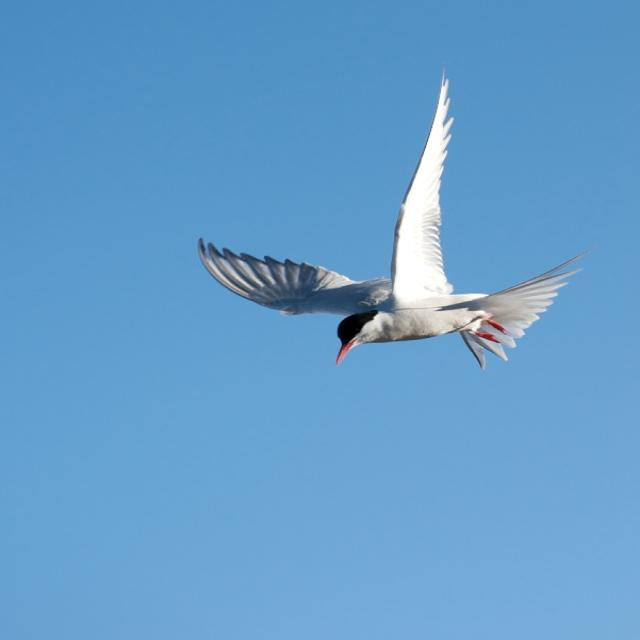bird: (176, 71, 598, 375)
